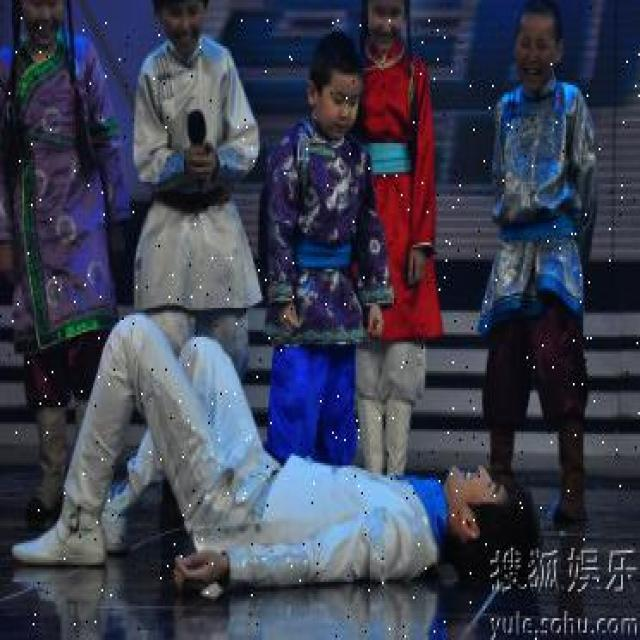fall: (54, 325, 502, 582)
